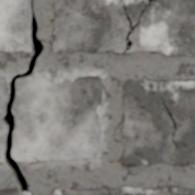brick: (121, 80, 194, 166), (53, 0, 128, 52), (127, 0, 194, 55), (0, 0, 30, 52), (51, 186, 194, 194), (124, 0, 148, 23), (0, 190, 29, 194)
broken_brick: (13, 75, 102, 164), (0, 77, 8, 146), (0, 151, 4, 163)
crack: (0, 2, 44, 192), (120, 0, 157, 54)
